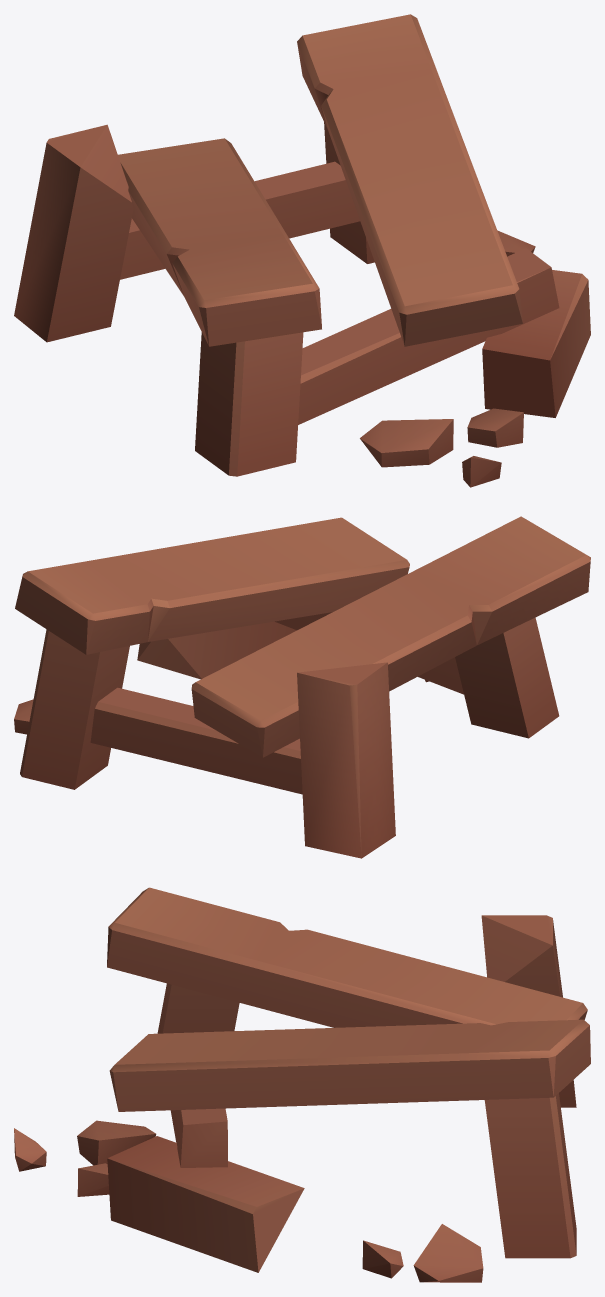
Rendered from table_medium_broken.gltf.
3 views of the same model, one above another, from view 1: azimuth 30°, elevation 25°; view 2: azimuth 150°, elevation 25°; view 3: azimuth 270°, elevation 25° (orthographic). The views are drawn at different scales.
Visible parts, largest first — view 1: table_medium_broken; view 2: table_medium_broken; view 3: table_medium_broken.
Part boxes in pixels (x1,y1,x2,y2): table_medium_broken: [14, 14, 590, 487]; table_medium_broken: [14, 516, 590, 858]; table_medium_broken: [14, 887, 590, 1282].
Size of the model in its own units: 2.28 by 0.9718 by 2.43.
Materials: 1 (1 with a texture image).
